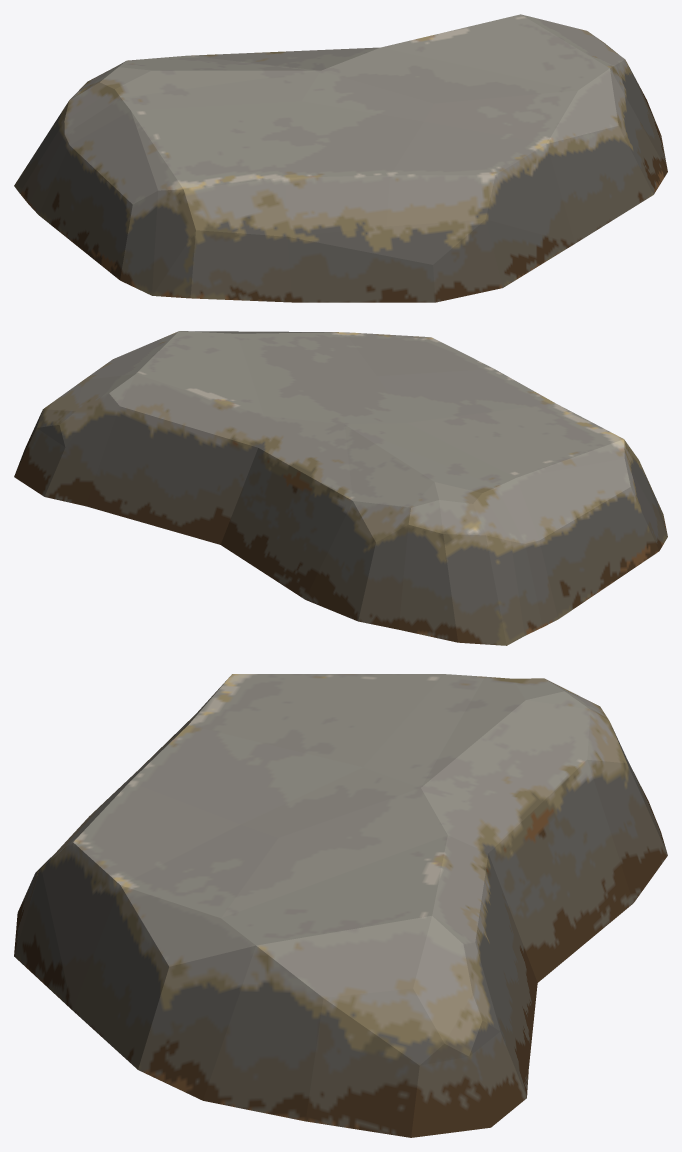
Rendered from Pebble_Round_1__go_coast.glb.
The picture shows the model from 3 angles, top to bottom: view 1: azimuth 30°, elevation 25°; view 2: azimuth 150°, elevation 25°; view 3: azimuth 270°, elevation 25°; orthographic projection. The views are drawn at different scales.
Visible parts, largest first — view 1: Pebble_Round_1; view 2: Pebble_Round_1; view 3: Pebble_Round_1.
Part boxes in pixels (x1,y1,x2,y2): Pebble_Round_1: (14,14,667,302); Pebble_Round_1: (14,331,667,645); Pebble_Round_1: (14,674,667,1137).
Size of the model in its own units: 0.5 by 0.0955 by 0.367.
1 material, 1 textured.
